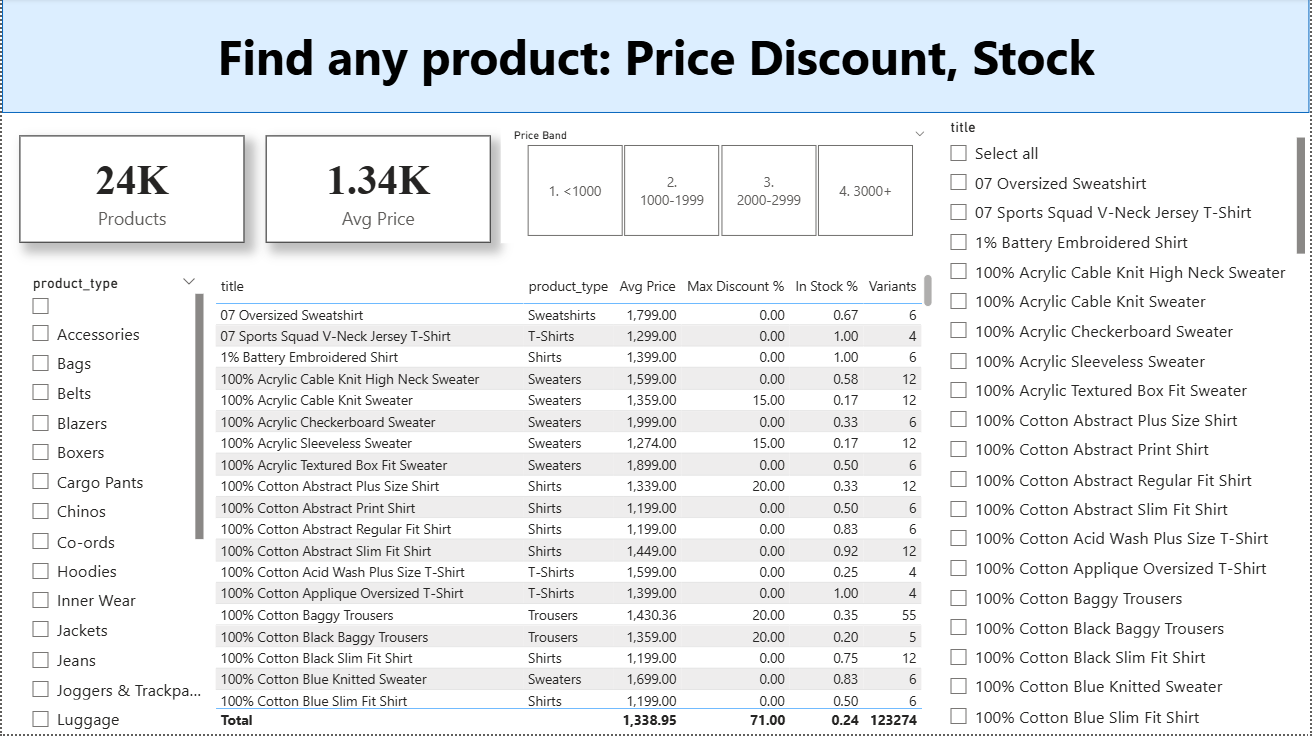

Layout of this report page (visuals, bound fields, positions):
{"tool":"powerbi","page":{"name":"Product Explorer","canvas":[1280,720],"ordinal":4},"visuals":[{"type":"shape","box":[0,0,1280,112.5],"z":0},{"type":"card","fields":{"Values":["mart dim_product.Products"]},"box":[17.5,135,220,105],"z":1},{"type":"card","fields":{"Values":["mart dim_product.Avg Price"]},"box":[257.5,135,220,105],"z":2},{"type":"slicer","fields":{"Values":["mart dim_product.product_type"]},"box":[17.5,265,185,455],"z":3},{"type":"slicer","fields":{"Values":["mart fact_variant_snapshot.Price Band"]},"box":[487.5,122.5,427.5,117.5],"z":4},{"type":"slicer","fields":{"Values":["mart dim_product.title"]},"box":[915,112.5,365,607.5],"z":5},{"type":"tableEx","fields":{"Values":["mart dim_product.title","mart dim_product.product_type","mart dim_product.Avg Price","mart dim_product.Max Discount %","mart dim_product.In Stock %","mart dim_product.Variants"]},"box":[202.5,265,712.5,455],"z":6}]}

Visuals, with their boxes in screenshot pixels (x1, y1, x2, y2), scaled from the page's 1280x720 canvas onto the 1312x736 screenshot:
shape: left=0, top=0, right=1311, bottom=115
card - mart dim_product.Products: left=18, top=138, right=243, bottom=245
card - mart dim_product.Avg Price: left=264, top=138, right=489, bottom=245
slicer - mart dim_product.product_type: left=18, top=271, right=208, bottom=735
slicer - mart fact_variant_snapshot.Price Band: left=500, top=125, right=938, bottom=245
slicer - mart dim_product.title: left=938, top=115, right=1311, bottom=735
tableEx - mart dim_product.title x mart dim_product.product_type: left=208, top=271, right=938, bottom=735
